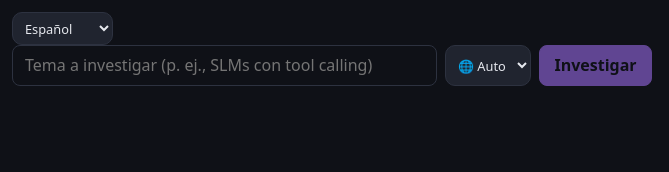
Test case: idioma de la interfaz › cambiar el selector traduce la interfaz y se recuerda
Expected: the button "Investigar" is shown, [539,45,652,86]
Select "Français" in the dropdown named "Idioma de la interfaz": {"x": 62, "y": 29} [12,12,113,45]
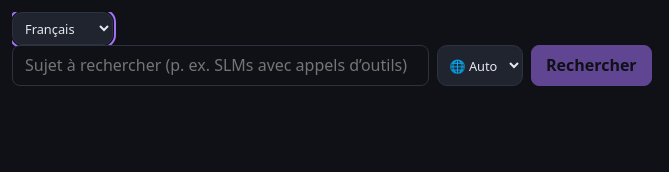
Expected: the button "Rechercher" is shown, [531,45,652,86]
